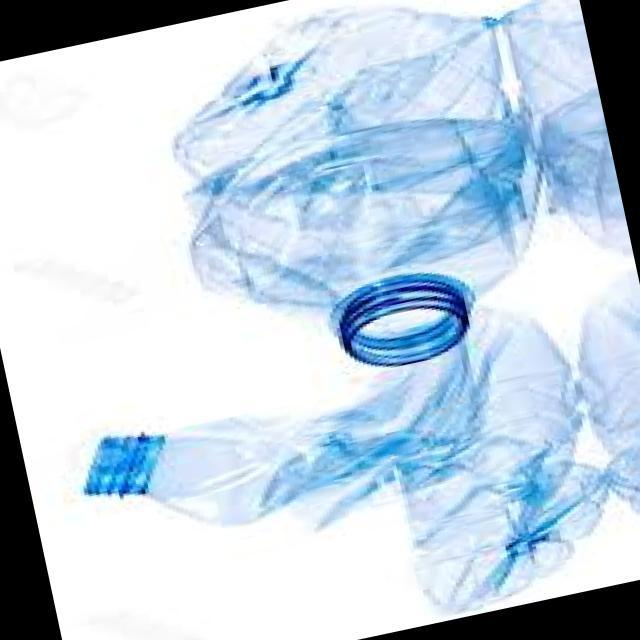defected: (62, 295, 620, 640), (130, 0, 585, 404)
